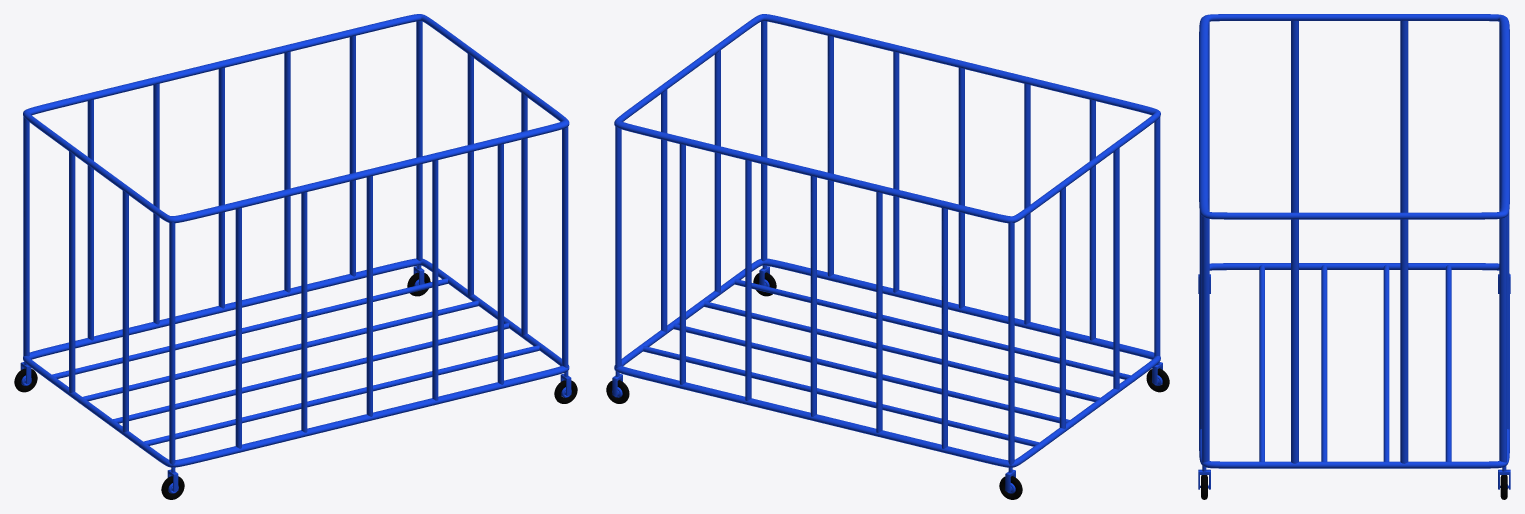
The model's file is basket.fbx.
3 renders of one model, left to right at view 1: azimuth 30°, elevation 25°; view 2: azimuth 150°, elevation 25°; view 3: azimuth 270°, elevation 25°, orthographic.
Parts seen in each view (by area): view 1: body; view 2: body; view 3: body.
Part boxes in pixels (box(x1,y1,x2,y2)): body: box(23, 14, 569, 467); body: box(614, 14, 1160, 467); body: box(1199, 14, 1509, 468).
Size of the model in its own units: 94.14 by 61.09 by 60.15.
